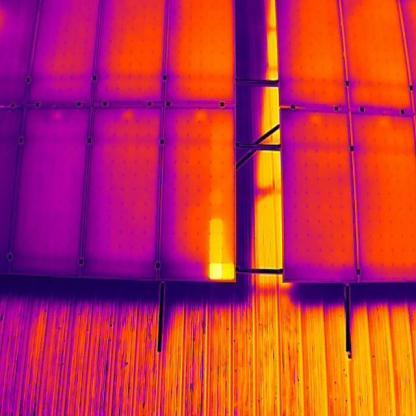anomaly: (204, 216, 241, 283)
